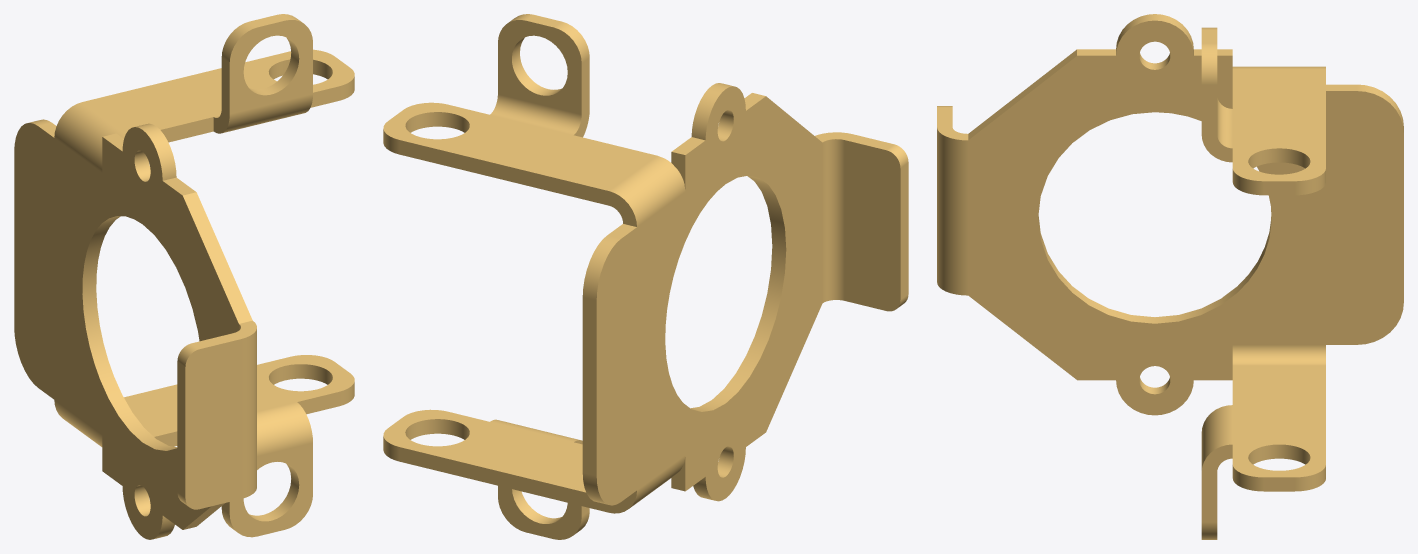
The model's file is Sheet Metal Design 1.fbx.
3 views of the same model, side by side, from view 1: azimuth 30°, elevation 25°; view 2: azimuth 150°, elevation 25°; view 3: azimuth 270°, elevation 25° (orthographic). The views are drawn at different scales.
Visible parts, largest first — view 1: Body1; view 2: Body1; view 3: Body1.
Boxes of the visible parts, bbox=[...] form: Body1: bbox=[14, 14, 354, 539]; Body1: bbox=[383, 14, 908, 539]; Body1: bbox=[937, 14, 1403, 539].
Bounding box in the file's own units: 24 × 35 × 30.
